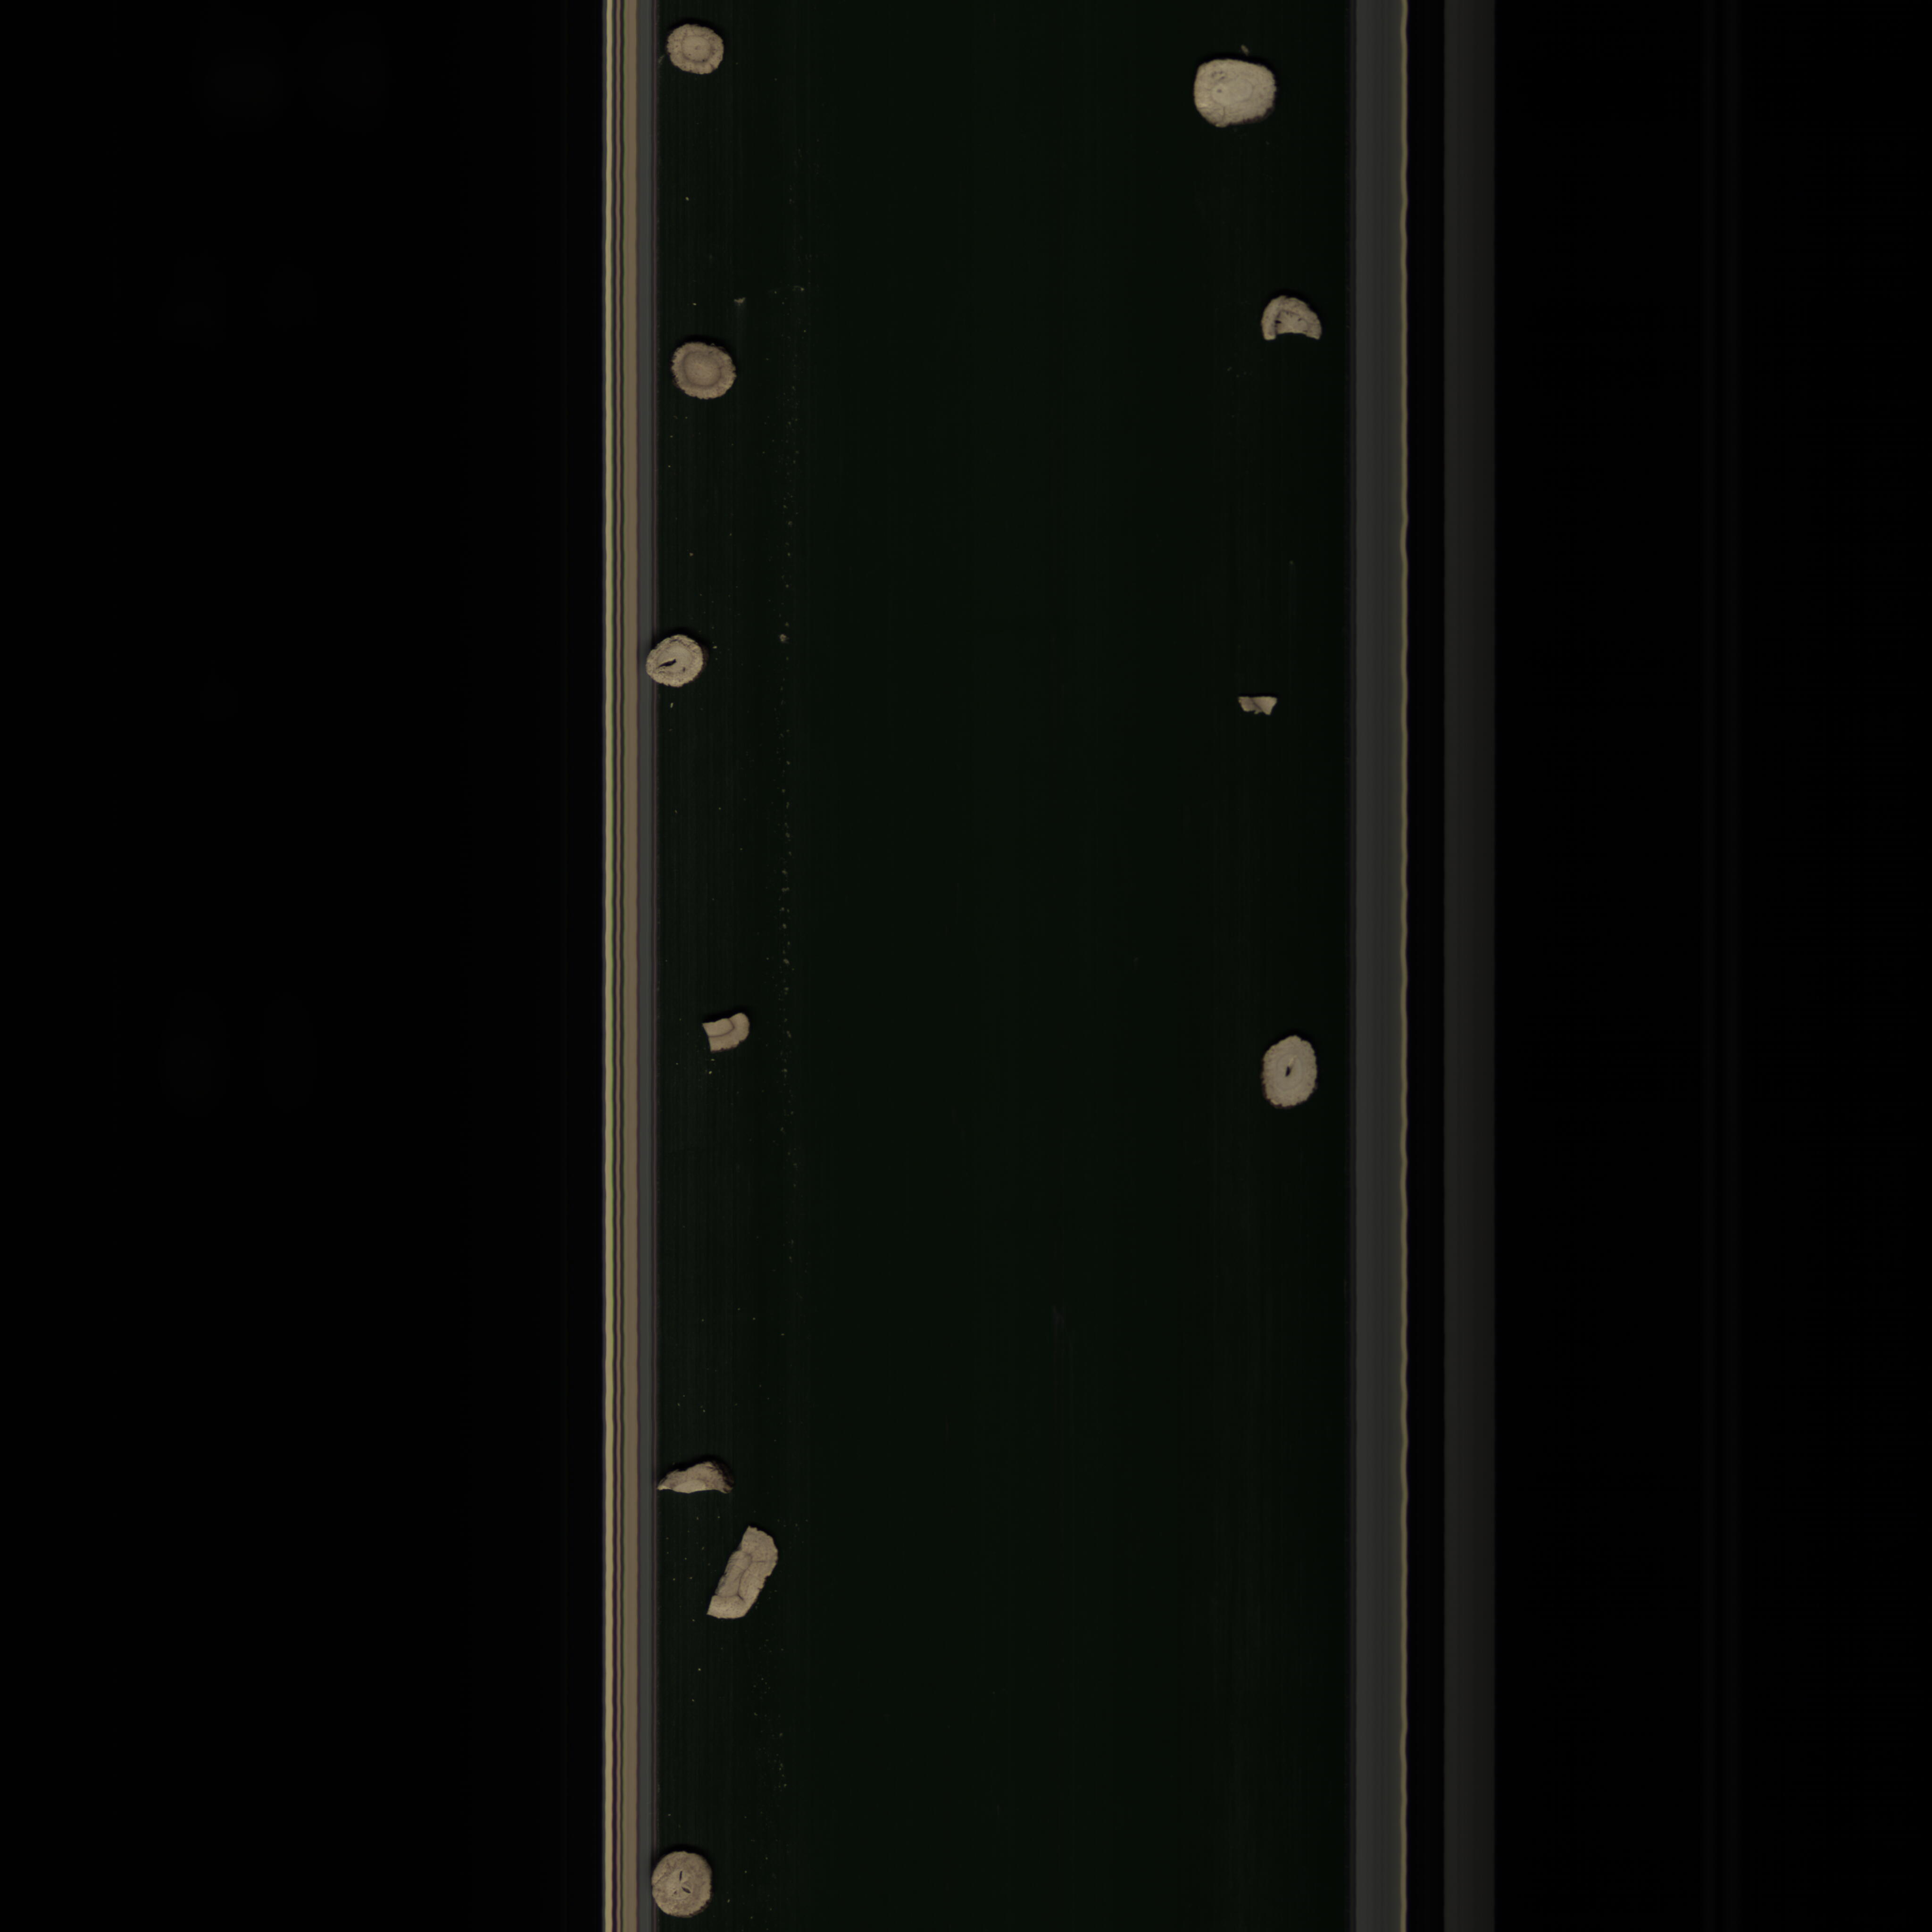debris: (694, 1523, 784, 1621), (1256, 292, 1338, 350), (658, 1463, 747, 1504), (694, 1014, 755, 1056), (1230, 686, 1288, 729)
hole: (1256, 1028, 1330, 1120), (640, 635, 718, 694)
